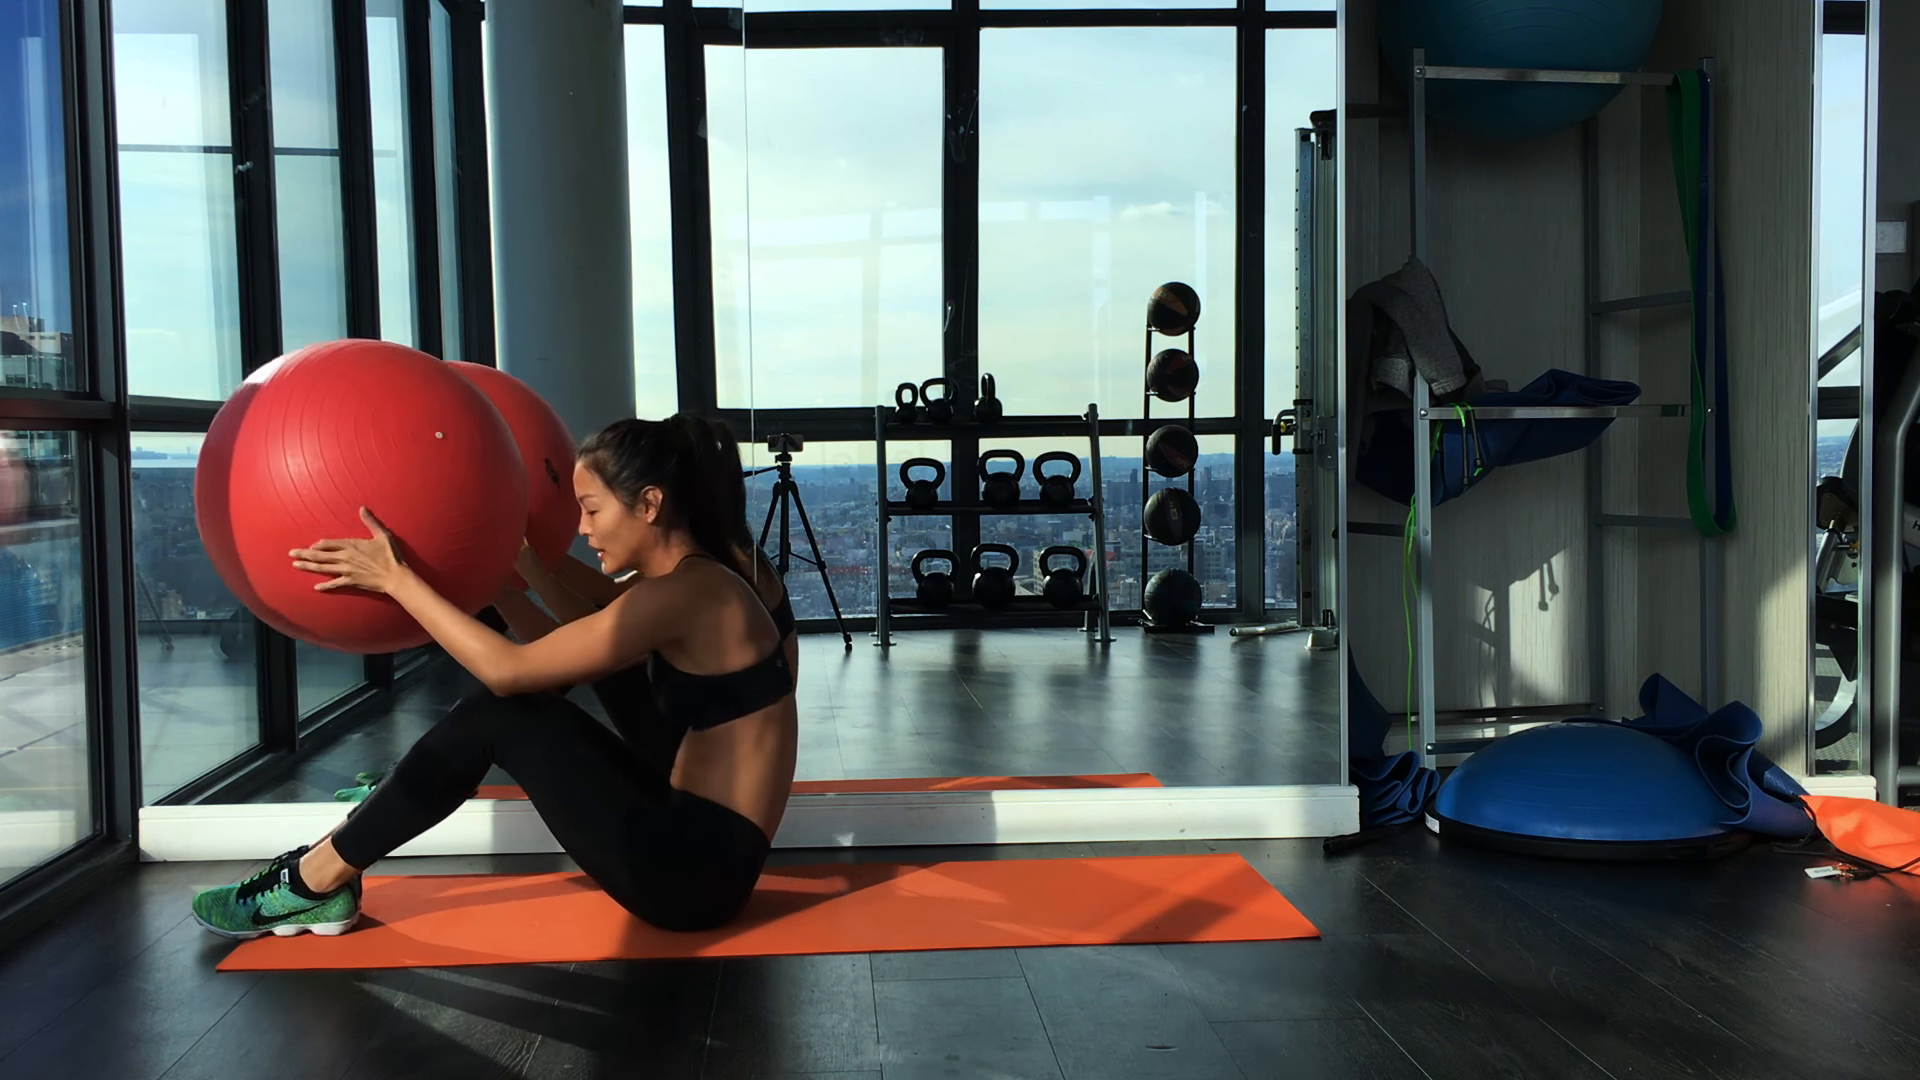yogaball: (185, 330, 543, 669)
